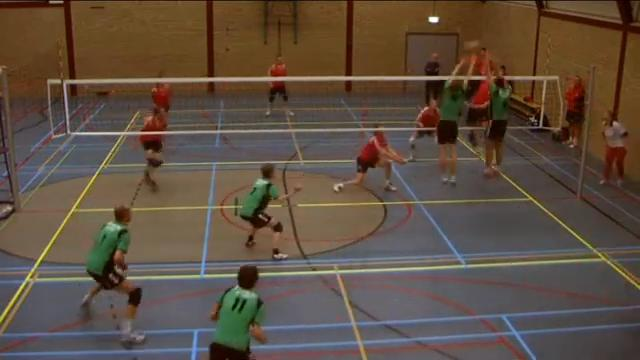Attack: (470, 45, 494, 136)
Block: (429, 50, 476, 193), (474, 44, 510, 180)
Player: (82, 205, 144, 343), (239, 163, 301, 259), (209, 265, 266, 359), (333, 124, 405, 191), (407, 99, 439, 160), (265, 56, 294, 117), (140, 134, 162, 191), (151, 83, 170, 112)
ball: (461, 41, 477, 48)
